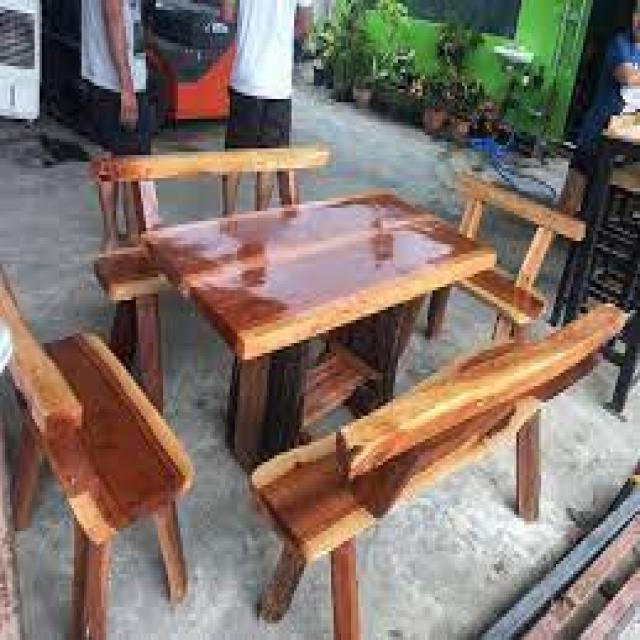table: (142, 175, 492, 372)
